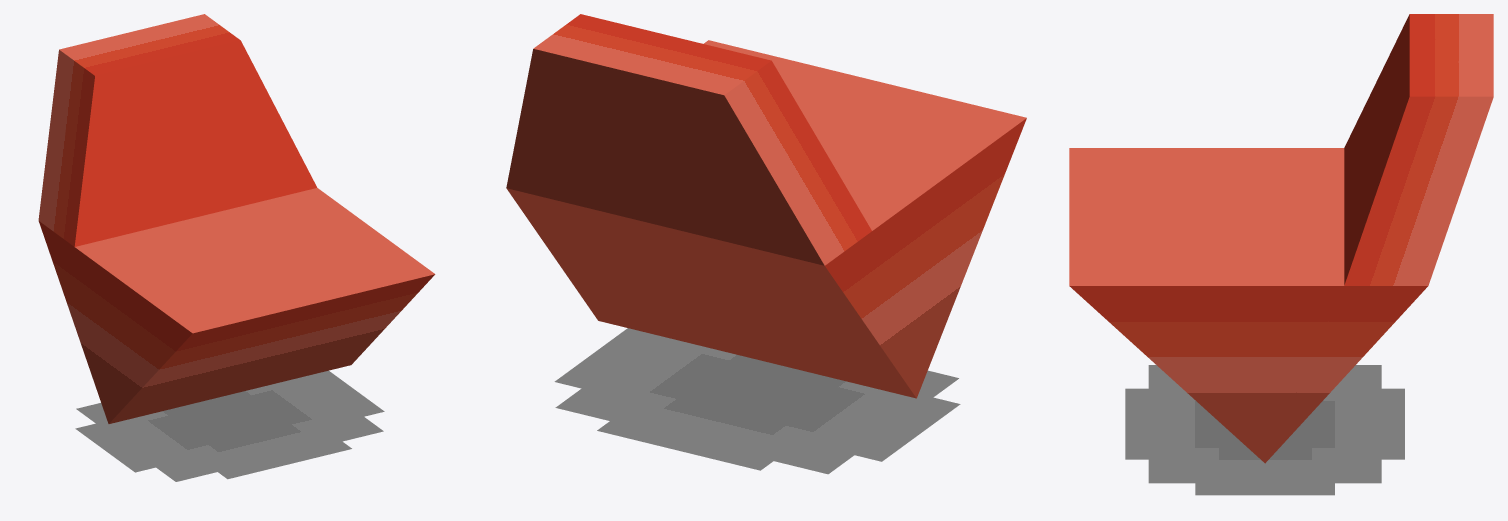
3 views of the same model, side by side, from view 1: azimuth 30°, elevation 25°; view 2: azimuth 150°, elevation 25°; view 3: azimuth 270°, elevation 25° (orthographic). The views are drawn at different scales.
Parts seen in each view (by area): view 1: polygon0; view 2: polygon0; view 3: polygon0.
Boxes of the visible parts, box(x1,y1,x2,y2) form: polygon0: box(38, 14, 435, 481); polygon0: box(506, 14, 1026, 474); polygon0: box(1069, 14, 1493, 495).
Size of the model in its own units: 6 by 6.23 by 6.5.
Materials: 1 (1 with a texture image).
